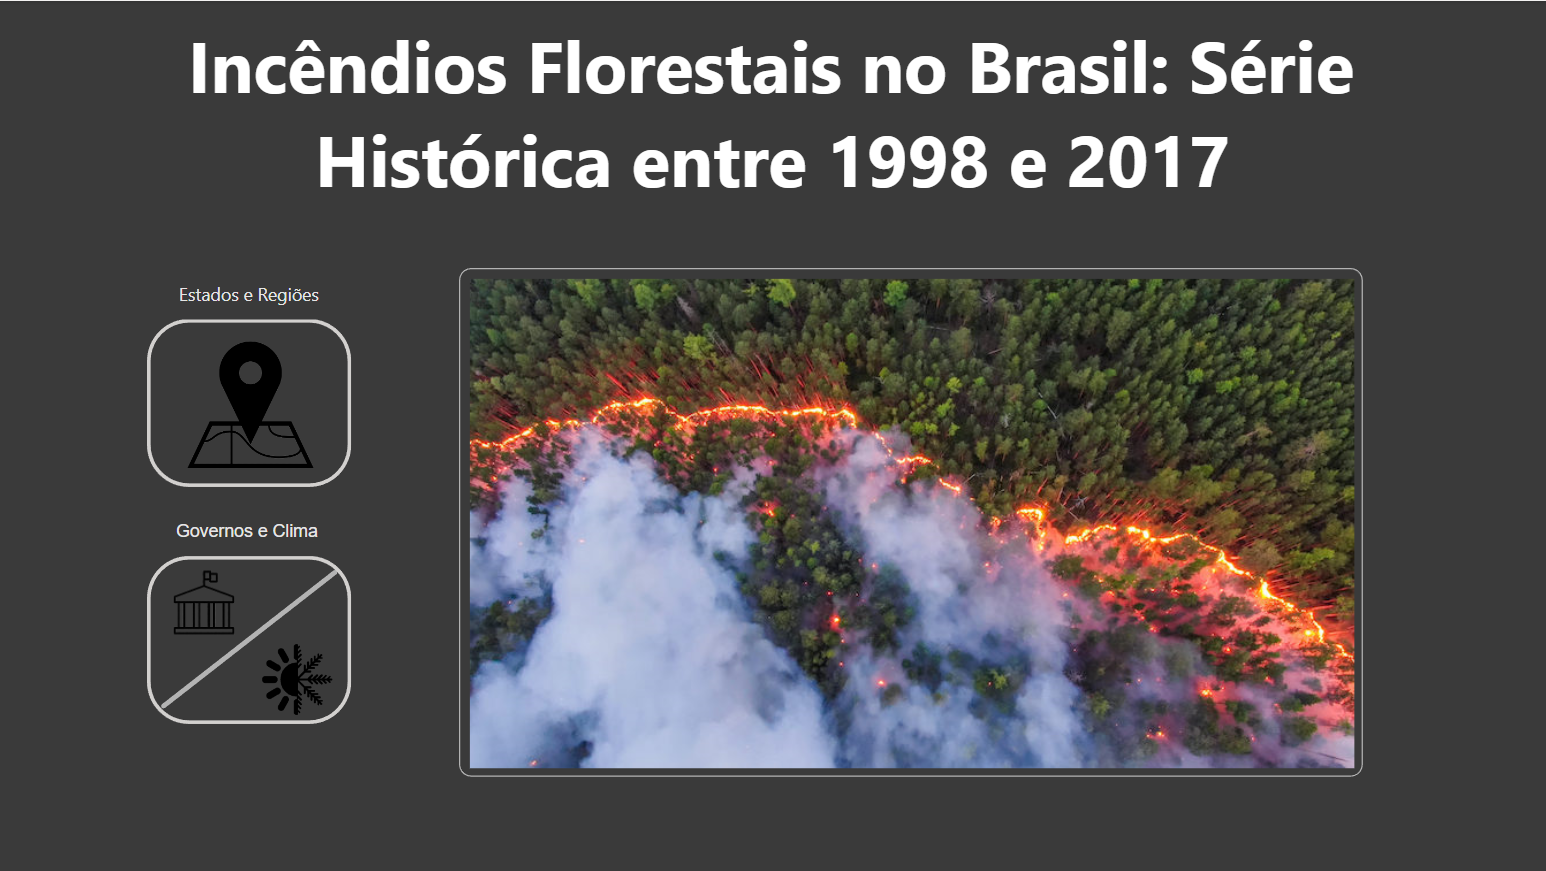

The dashboard page shown, as its layout file describes it:
{"tool":"powerbi","page":{"name":"Capa","canvas":[1280,720],"ordinal":0},"visuals":[{"type":"image","box":[209.9,523.3,71,76],"z":0},{"type":"shape","box":[133.5,453.1,145.8,151],"z":1000},{"type":"image","box":[133.5,459.2,71.1,76.4],"z":2000},{"type":"image","box":[142.2,271.3,130,124.7],"z":3000},{"type":"actionButton","box":[122,459.2,168.6,138.7],"z":4000},{"type":"actionButton","box":[122,263.4,168.6,138.7],"z":5000},{"type":"textbox","box":[151,7.9,977.3,167.7],"z":6000},{"type":"image","box":[380.2,221.3,748.1,421.5],"z":6001},{"type":"textbox","box":[122,227.4,168.6,36],"z":6002},{"type":"textbox","box":[120.3,425,168.6,34.2],"z":6003}]}

Visuals, with their boxes in screenshot pixels (x1, y1, x2, y2), scaled from the page's 1280x720 canvas onto the 1546x871 screenshot:
image: region(254, 633, 339, 725)
shape: region(161, 548, 337, 731)
image: region(161, 556, 247, 648)
image: region(172, 328, 329, 479)
actionButton: region(147, 556, 351, 723)
actionButton: region(147, 319, 351, 486)
textbox: region(182, 10, 1363, 212)
image: region(459, 268, 1363, 778)
textbox: region(147, 275, 351, 319)
textbox: region(145, 514, 349, 556)
